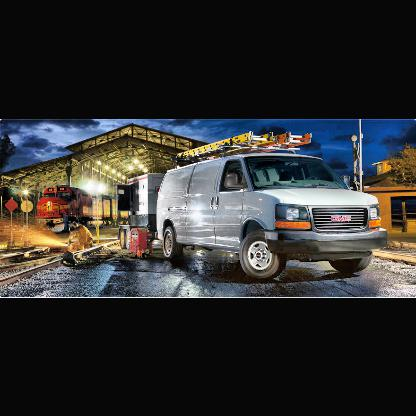GMC Savana Van 2012: (157, 153, 390, 280)
